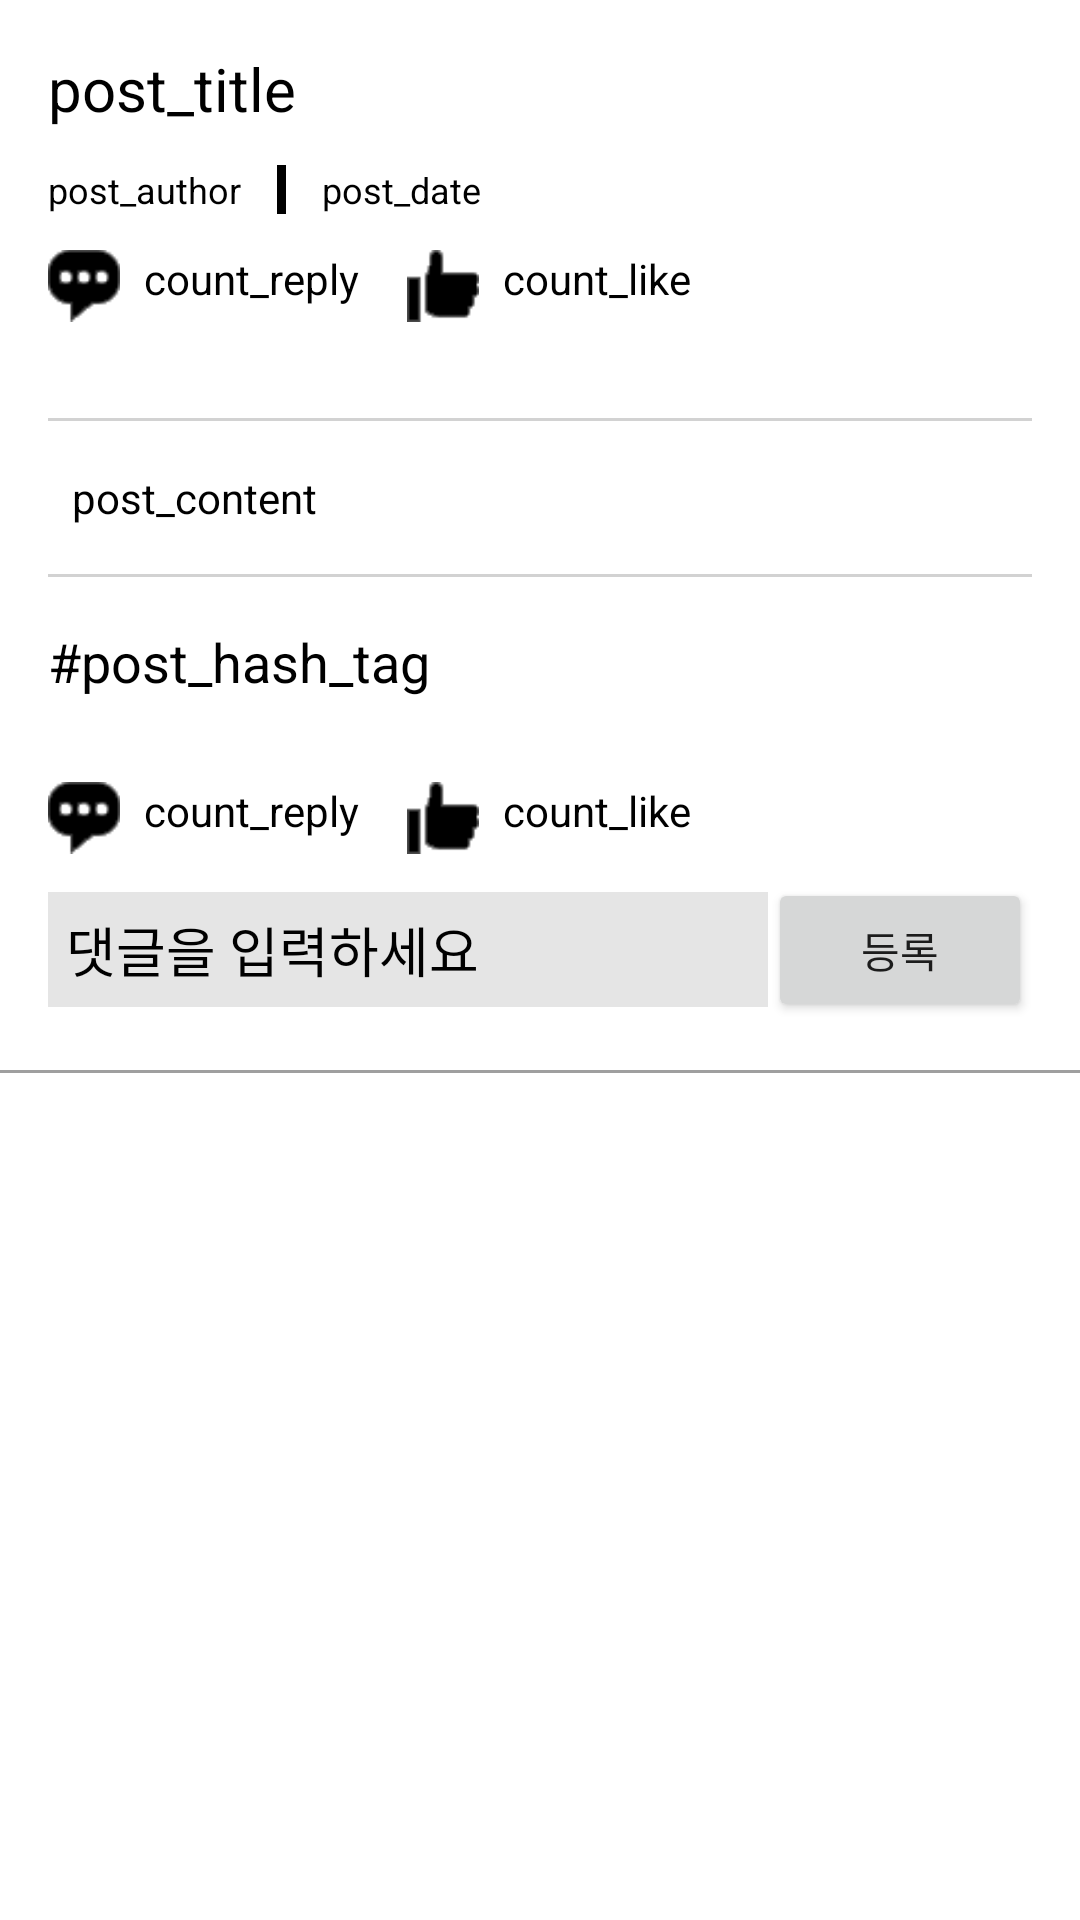

Screen size 1080px x 1920px. Icon name, then its center in pixels as [x,y]:
comments: [84,286], [84,818]
